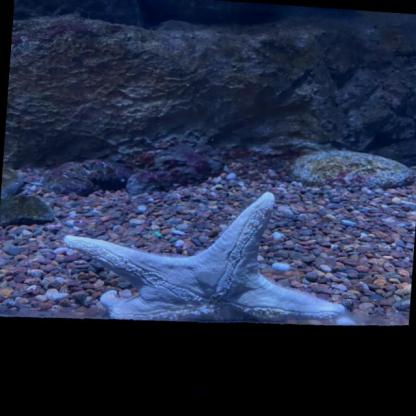starfish: (57, 176, 352, 338)
